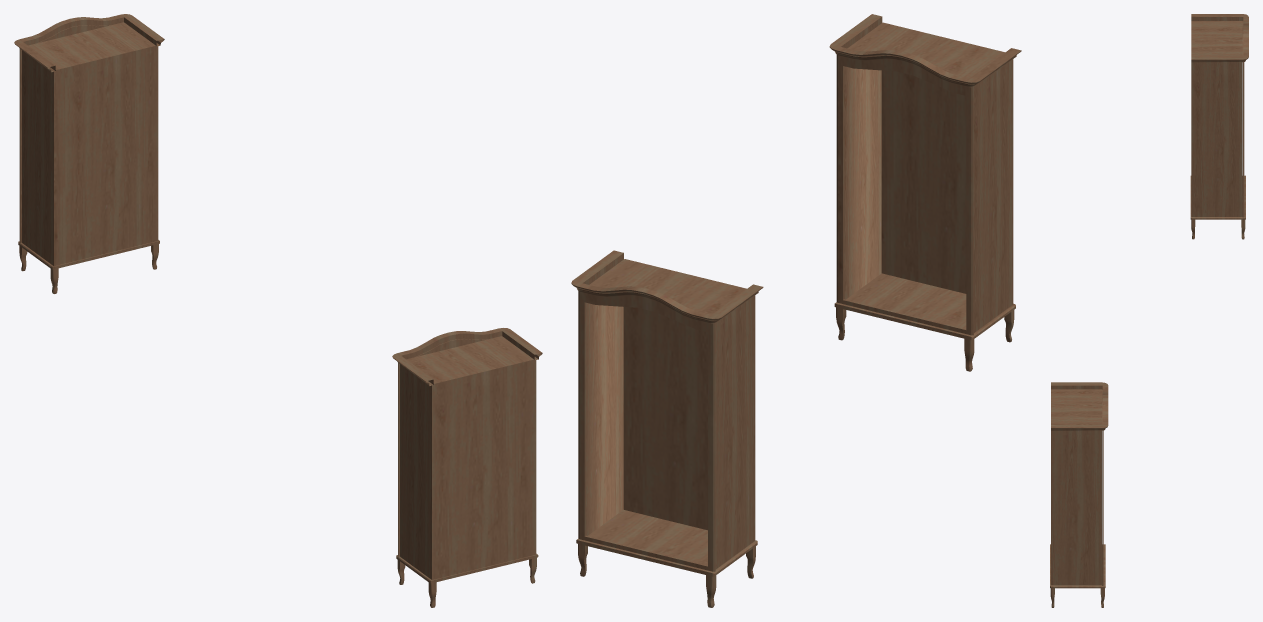
File: NeighborMebel2Separated.fbx
3 views of the same model, side by side, from view 1: azimuth 30°, elevation 25°; view 2: azimuth 150°, elevation 25°; view 3: azimuth 270°, elevation 25° (orthographic). The views are drawn at different scales.
Visible parts, largest first — view 1: NeighborMebel2.005, NeighborMebel2.017; view 2: NeighborMebel2.005, NeighborMebel2.017; view 3: NeighborMebel2.005, NeighborMebel2.017.
Part boxes in pixels (x1=…): NeighborMebel2.005: x1=14, y1=14, x2=164, y2=293; NeighborMebel2.017: x1=392, y1=328, x2=542, y2=607; NeighborMebel2.005: x1=829, y1=14, x2=1021, y2=371; NeighborMebel2.017: x1=571, y1=250, x2=763, y2=607; NeighborMebel2.005: x1=1190, y1=14, x2=1248, y2=239; NeighborMebel2.017: x1=1050, y1=382, x2=1108, y2=607.
Size of the model in its own units: 531 by 694 by 281.
